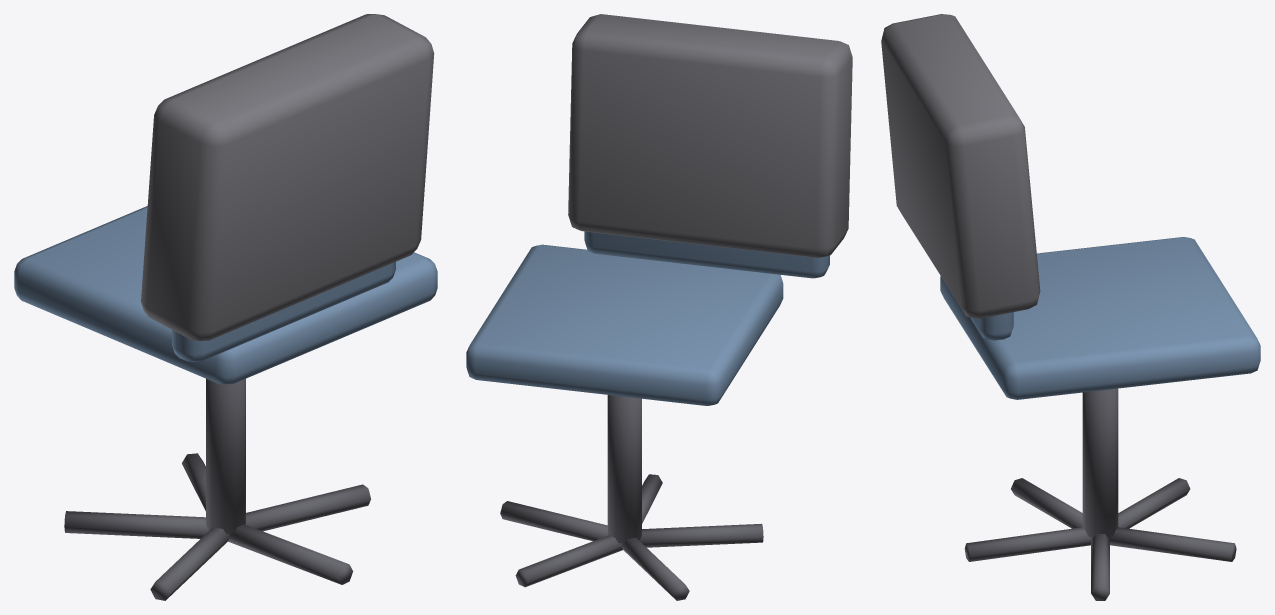
The model's file is Indo_Chair_Jaket.fbx.
3 renders of one model, left to right at view 1: azimuth 30°, elevation 25°; view 2: azimuth 150°, elevation 25°; view 3: azimuth 270°, elevation 25°, orthographic. The views are drawn at different scales.
Visible parts, largest first — view 1: Indo_Chair_Jaket; view 2: Indo_Chair_Jaket; view 3: Indo_Chair_Jaket.
Boxes of the visible parts, <box> form: Indo_Chair_Jaket: <box>14,14,437,600</box>; Indo_Chair_Jaket: <box>466,14,852,600</box>; Indo_Chair_Jaket: <box>881,14,1260,600</box>.
Bounding box in the file's own units: 50.81 × 81.08 × 59.72.
